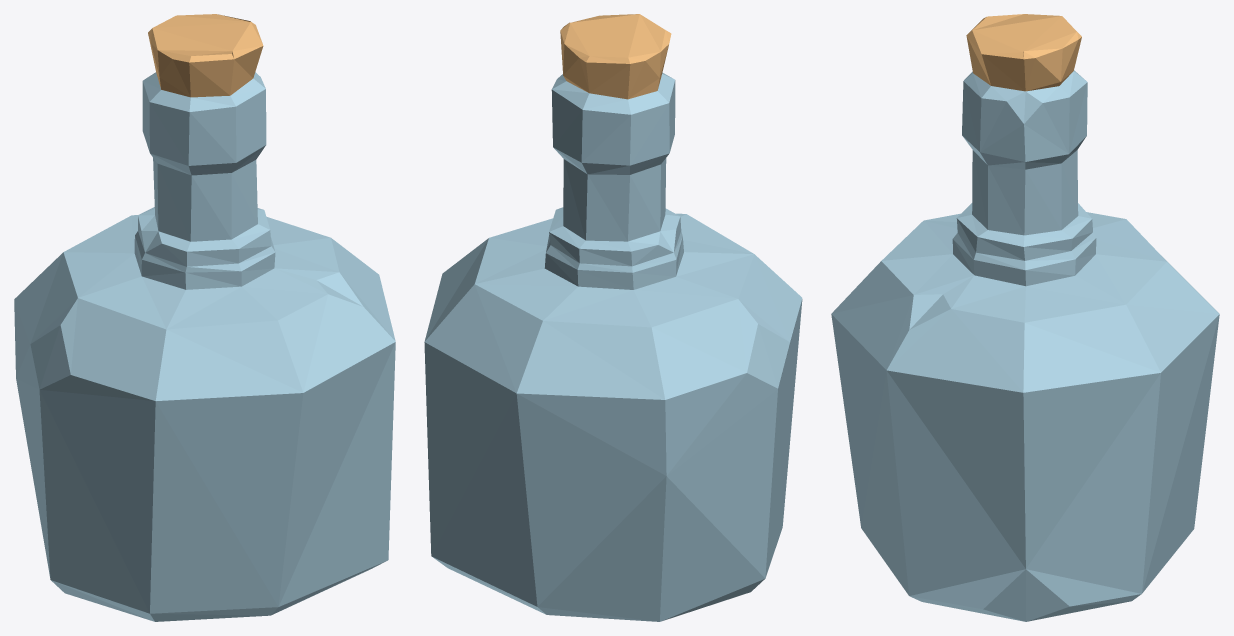
Rendered from SFHW_Bottle_Herbs_003.fbx.
3 renders of one model, left to right at view 1: azimuth 30°, elevation 25°; view 2: azimuth 150°, elevation 25°; view 3: azimuth 270°, elevation 25°, orthographic.
Visible parts, largest first — view 1: SFHW_Bottle_Herbs_003; view 2: SFHW_Bottle_Herbs_003; view 3: SFHW_Bottle_Herbs_003.
Boxes of the visible parts, x1,y1,x2,y2 form: SFHW_Bottle_Herbs_003: (14, 14, 395, 621); SFHW_Bottle_Herbs_003: (424, 14, 802, 621); SFHW_Bottle_Herbs_003: (831, 14, 1219, 621).
Bounding box in the file's own units: 17.86 × 27.09 × 18.04.
